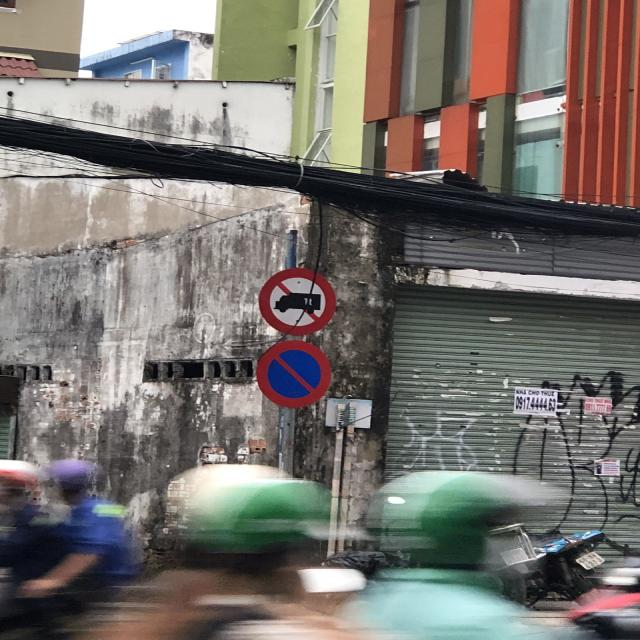Bien bao cam do xe: (248, 334, 340, 411)
Bien bao cam xe oto tai: (250, 259, 341, 335)
